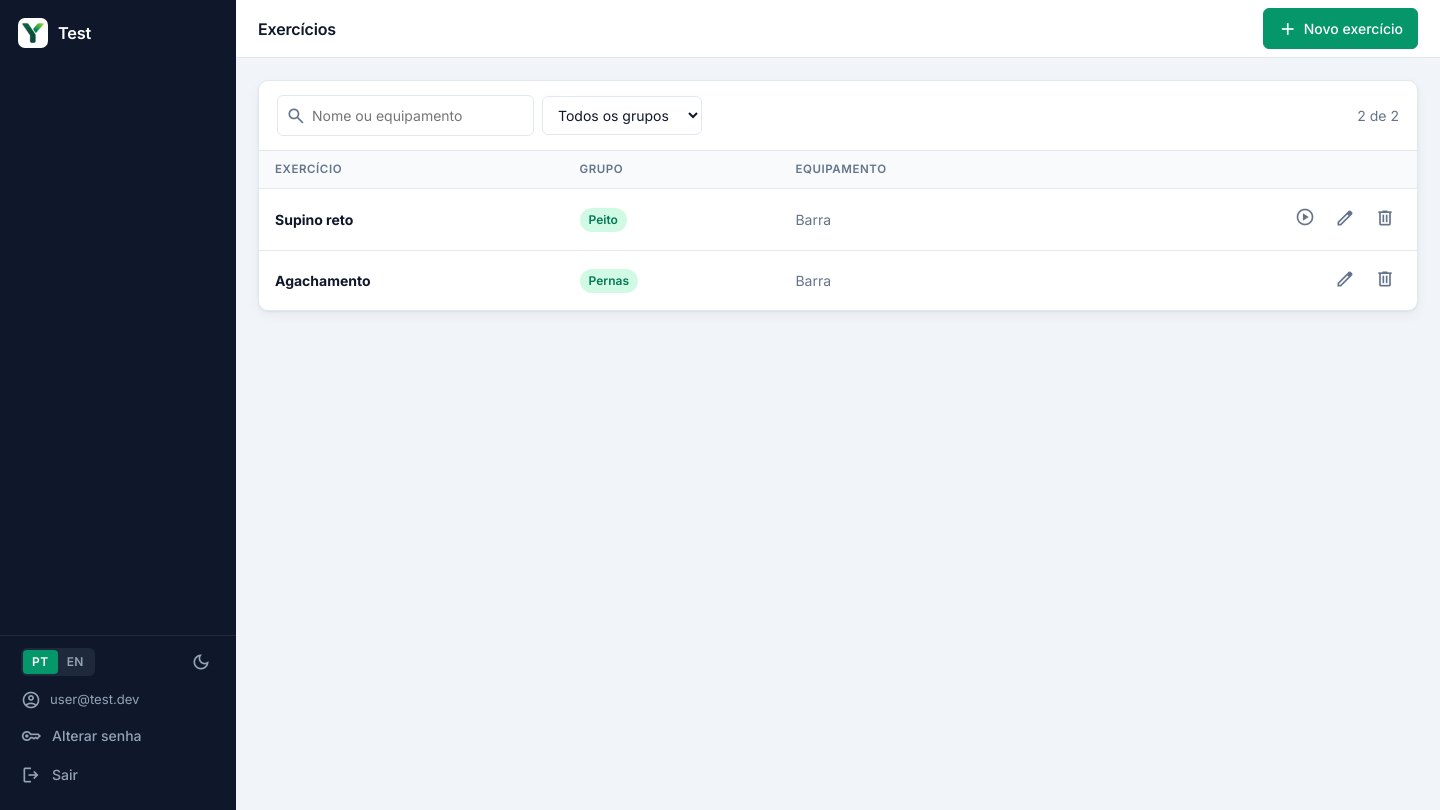
Exercises › filtra por texto de busca e por grupo muscular
Type "agacha" into the search field with placeholder "Nome ou equipamento" at (406, 116), box [277,95,534,136]
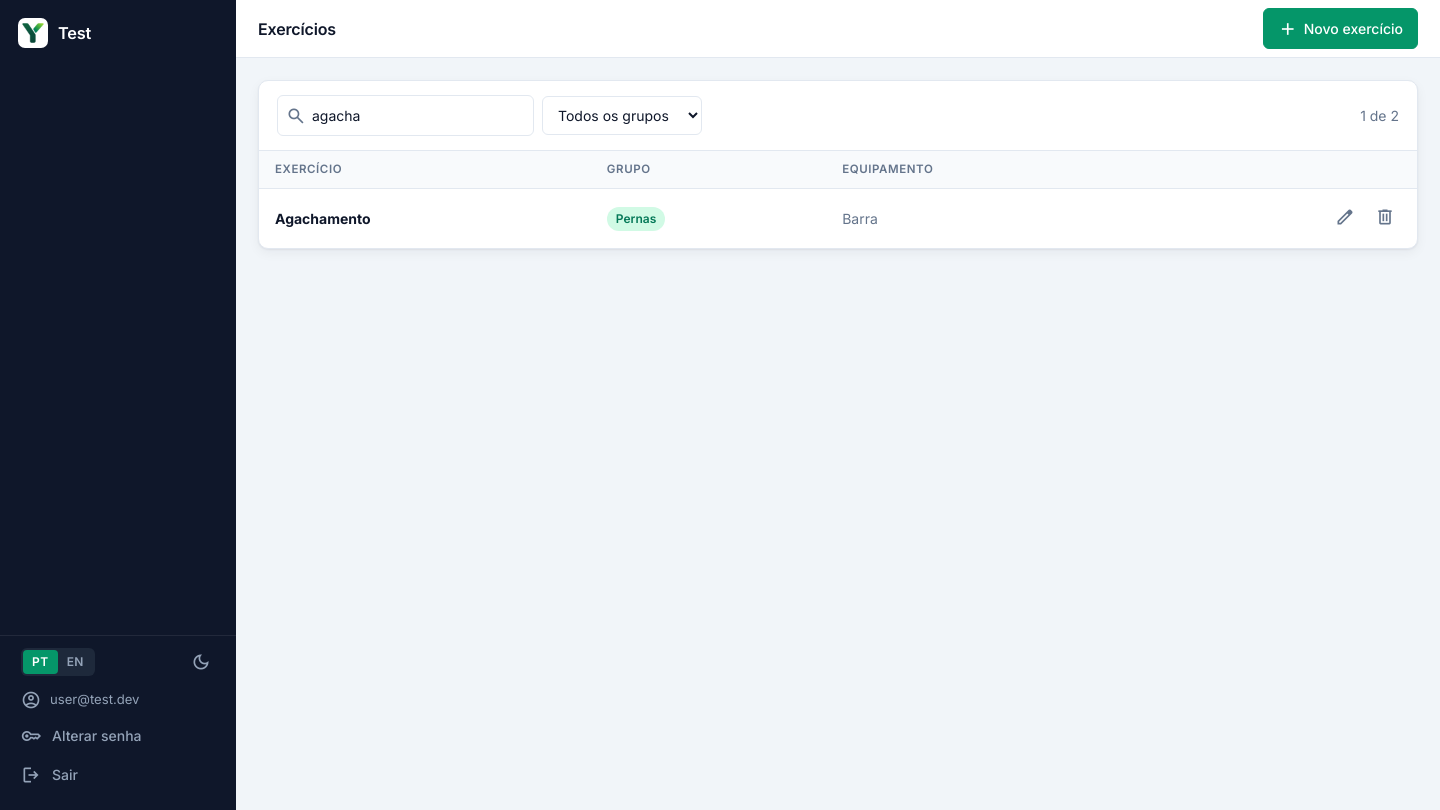
Expected: the text "Agachamento" is shown, [275,210,371,227]
Now the text "1 de 2" is shown, box [1360,105,1399,126]
Now the text "Supino reto" is gone
Clear the search field at (406, 116), box [277,95,534,136]
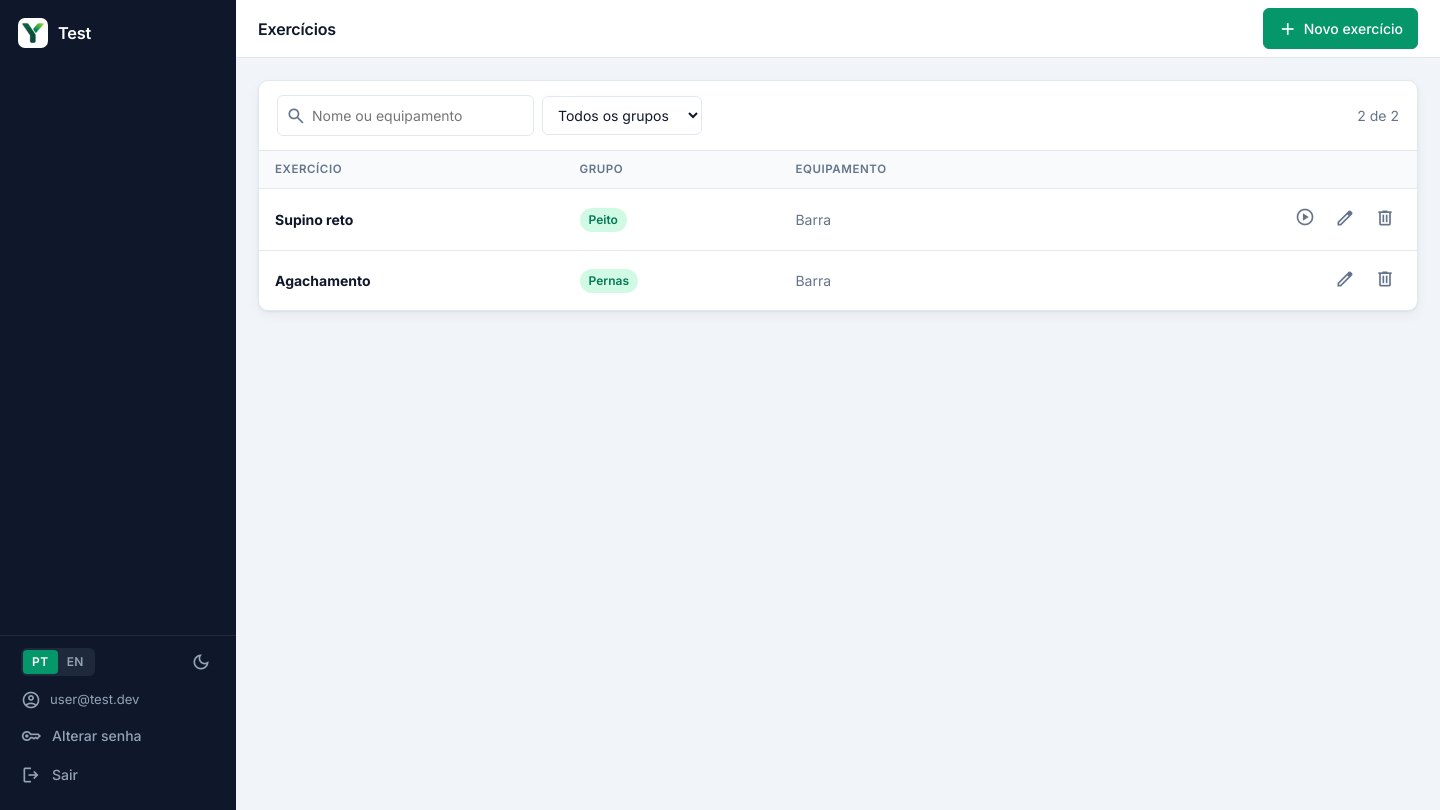
Select "Peito" in the dropdown at (622, 116), box [542,96,702,135]
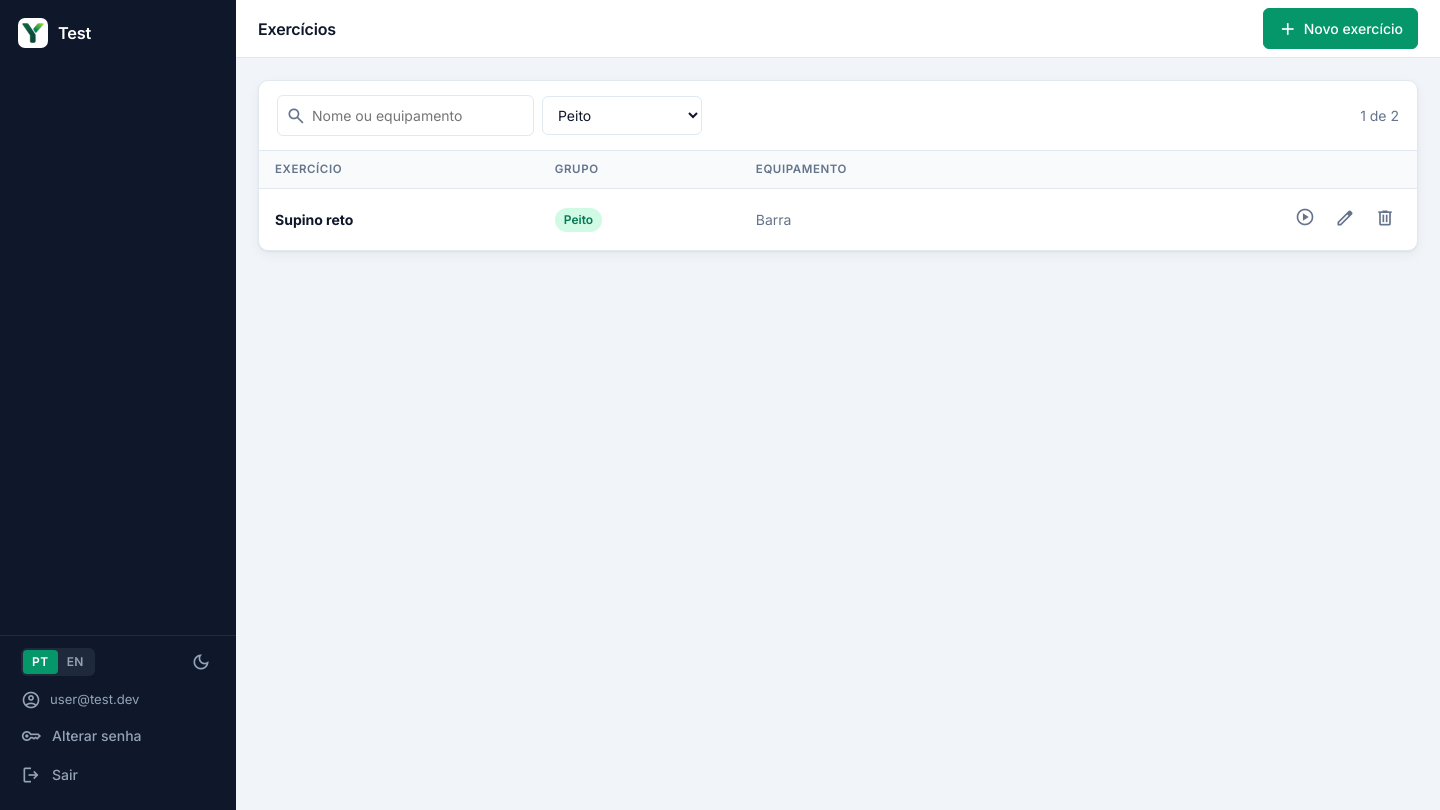
Now the text "Supino reto" is shown, box [275,211,353,228]
Now the text "1 de 2" is shown, box [1360,105,1399,126]
Now the text "Agachamento" is gone
Type "zzz" into the search field with placeholder "Nome ou equipamento" at (406, 116), box [277,95,534,136]
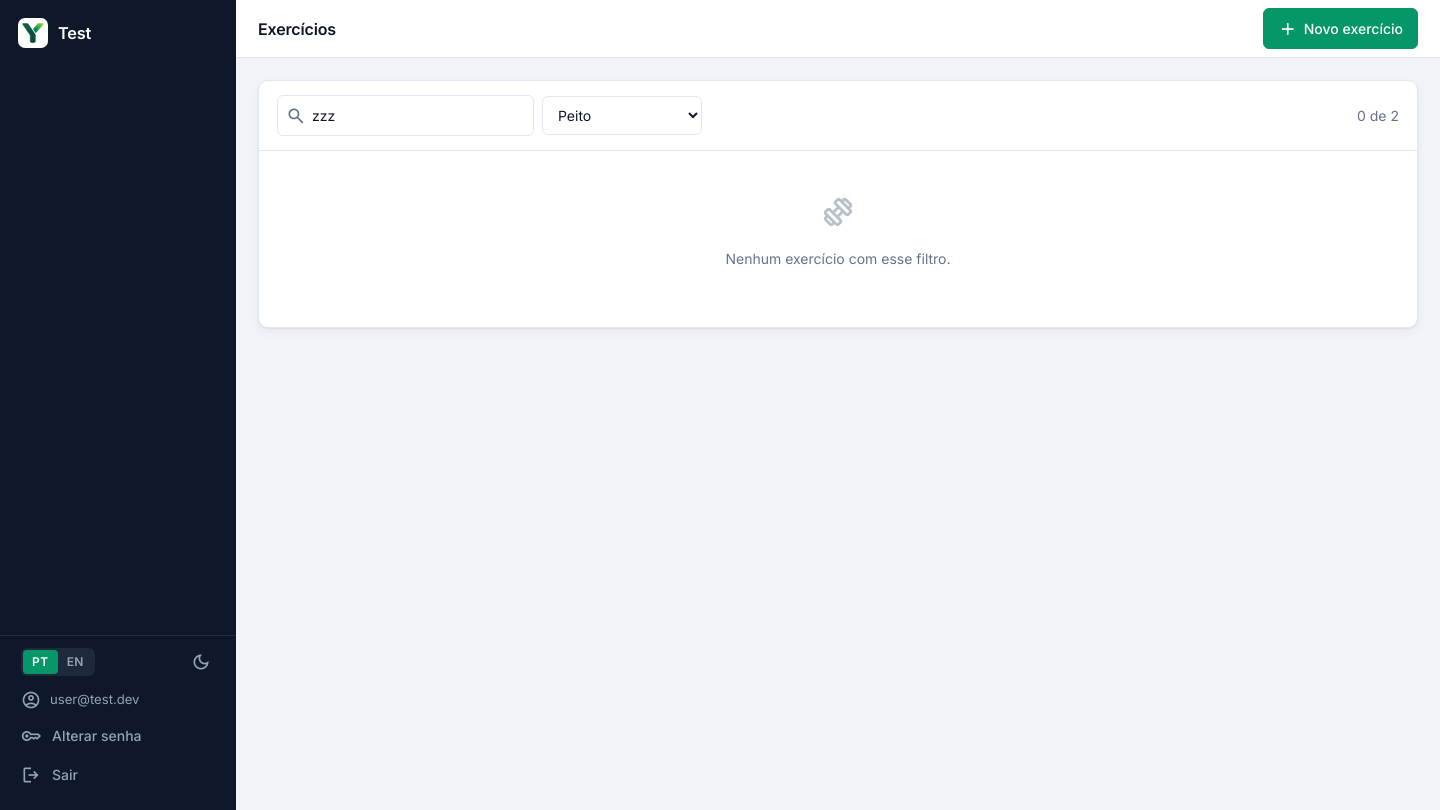
Now the text "Nenhum exercício com esse filtro." is shown, box [726,250,951,267]
